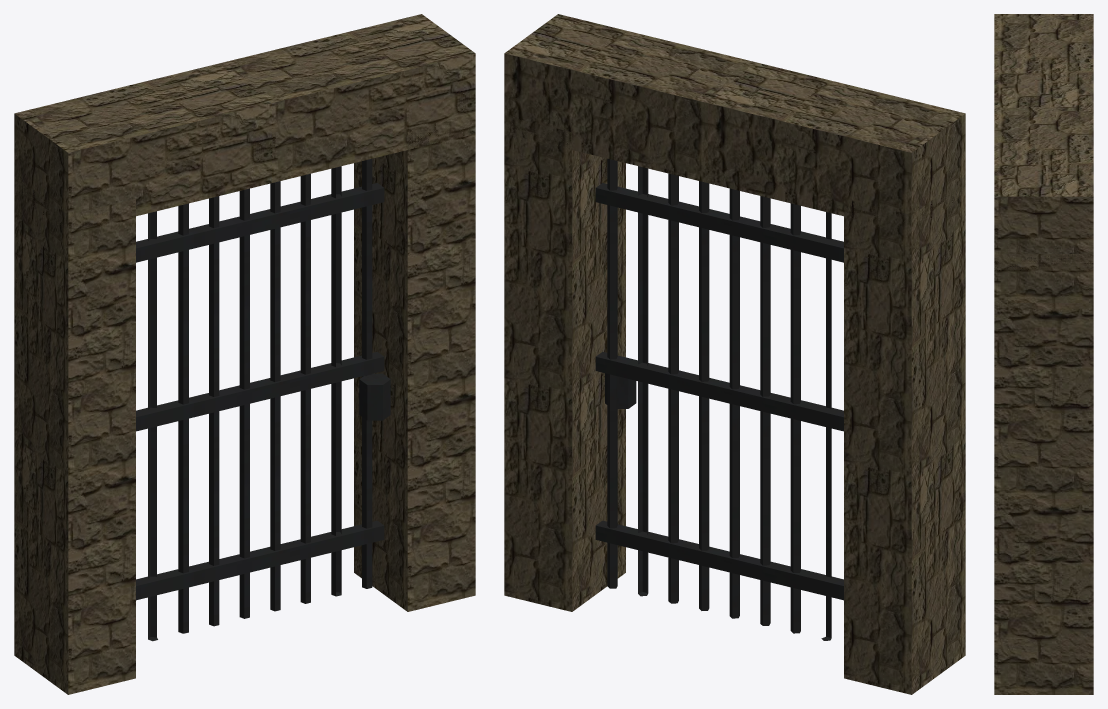
Rendered from bars_door_01.glb.
3 renders of one model, left to right at view 1: azimuth 30°, elevation 25°; view 2: azimuth 150°, elevation 25°; view 3: azimuth 270°, elevation 25°, orthographic. The views are drawn at different scales.
Parts seen in each view (by area): view 1: bars_door_01; view 2: bars_door_01; view 3: bars_door_01.
Part boxes in pixels (x1=…): bars_door_01: x1=14, y1=14, x2=475, y2=694; bars_door_01: x1=504, y1=14, x2=965, y2=694; bars_door_01: x1=994, y1=14, x2=1093, y2=694.
Bounding box in the file's own units: 2.4 × 3.05 × 0.5499.
2 materials, 2 textured.
